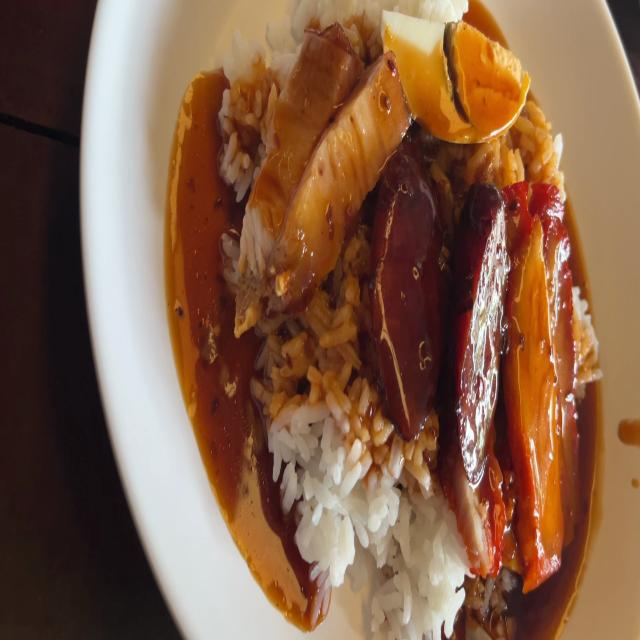01boiled_egg: (382, 14, 527, 139)
01chainese_sausage: (381, 162, 503, 456), (379, 170, 451, 422), (451, 204, 508, 456)
01crispy_pork: (236, 36, 386, 320)
01red_pork: (508, 190, 579, 564), (456, 484, 504, 564)
01red_pork_and_crispy_pork: (215, 0, 601, 640)
01rice: (266, 321, 384, 584), (378, 444, 456, 630)
